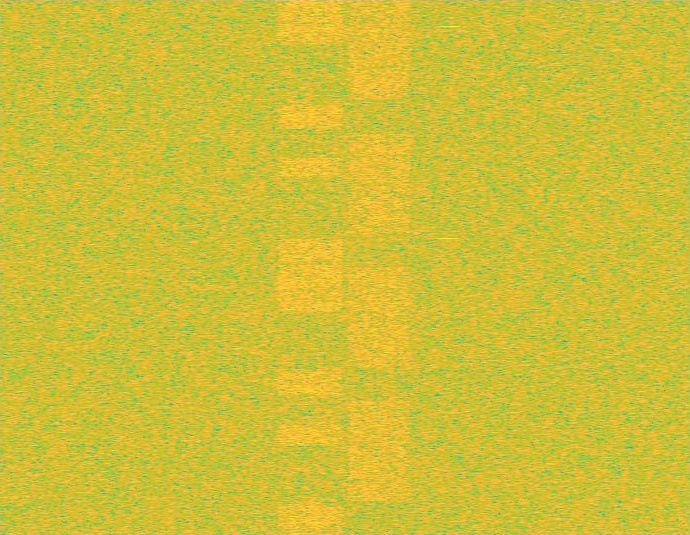5G: (345, 0, 414, 534)
LTE: (276, 0, 345, 534)
Radar: (443, 0, 456, 534)
